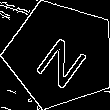N_NE: (28, 23, 93, 87)
